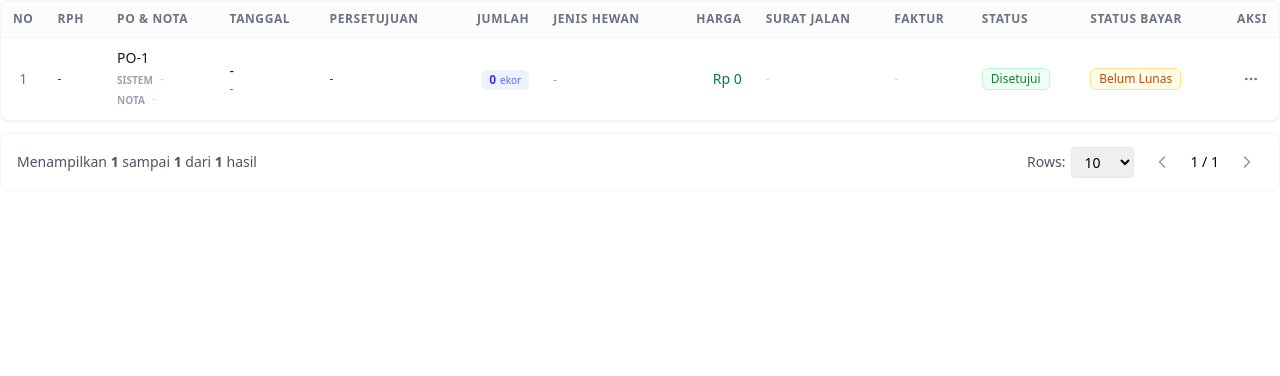
Test: unpaid PO hides receipt; download lock disables documents; Escape restores focus
Click the button named "Menu Aksi" at (1251, 79), box [1235,63,1267,95]
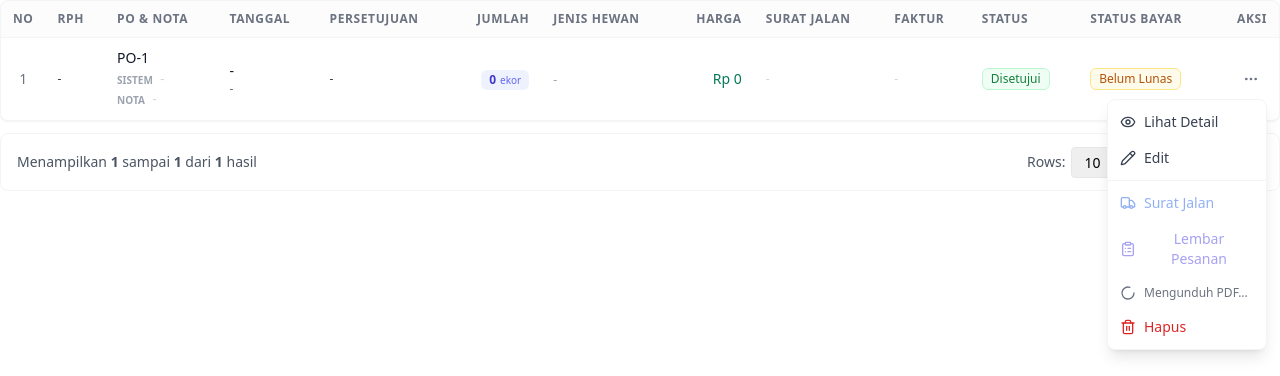
Expected: the menu item "Surat Jalan" is disabled, [1108,185,1266,221]
Expected: the menu item "Lembar Pesanan" is disabled, [1108,221,1266,277]
Expected: the message shows "Mengunduh", [1144,284,1248,301]
Press Escape in the menu, box [1107,99,1267,350]
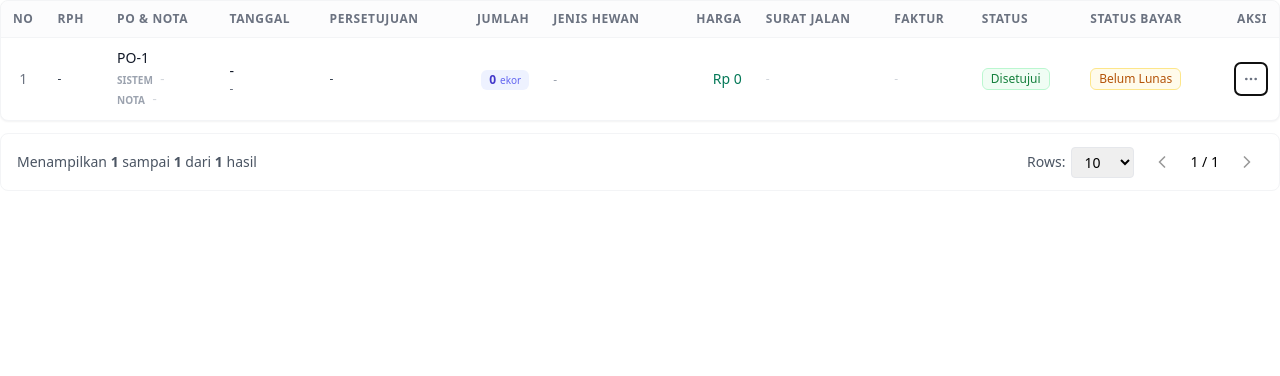
Expected: the menu is gone
